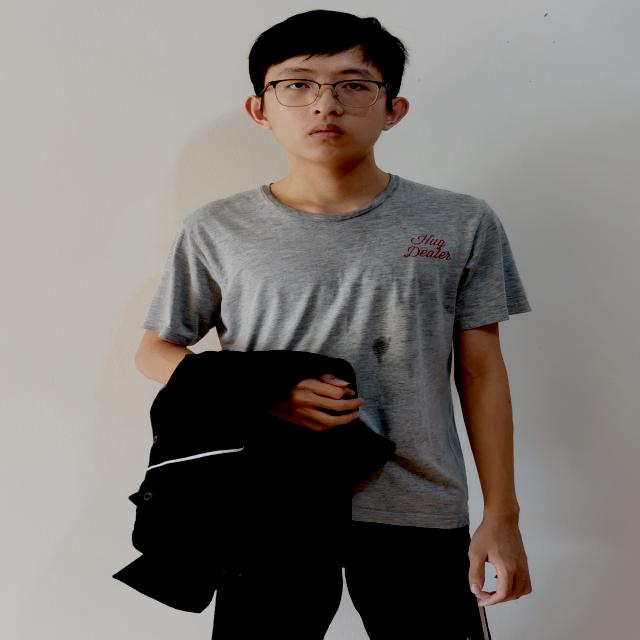person_without_labcoat: (114, 10, 530, 640)
